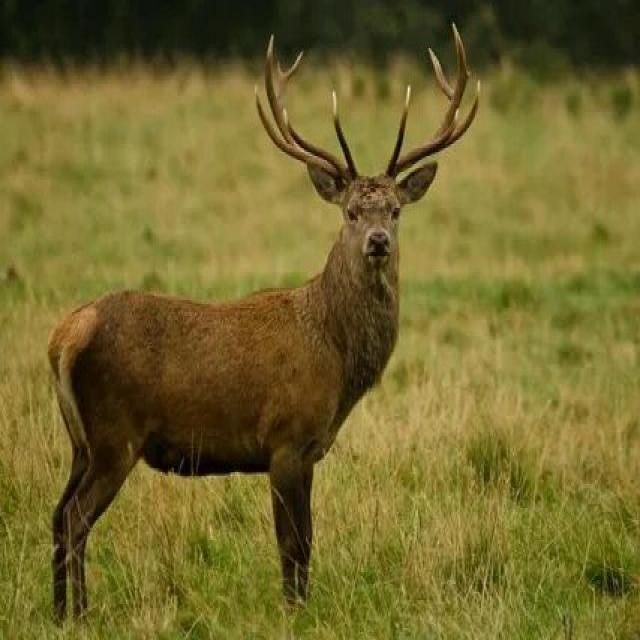deer: (9, 58, 486, 537)
